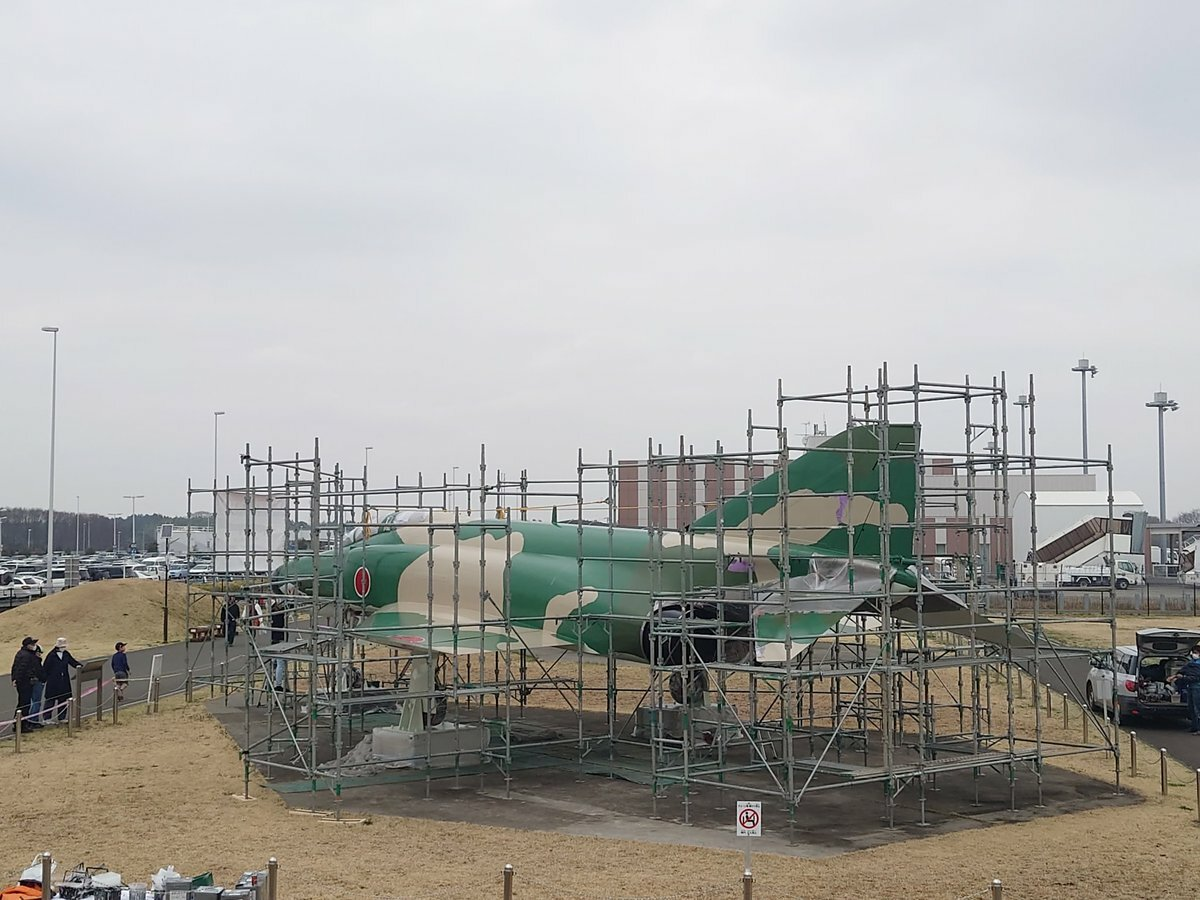F4: (271, 423, 1034, 728)
